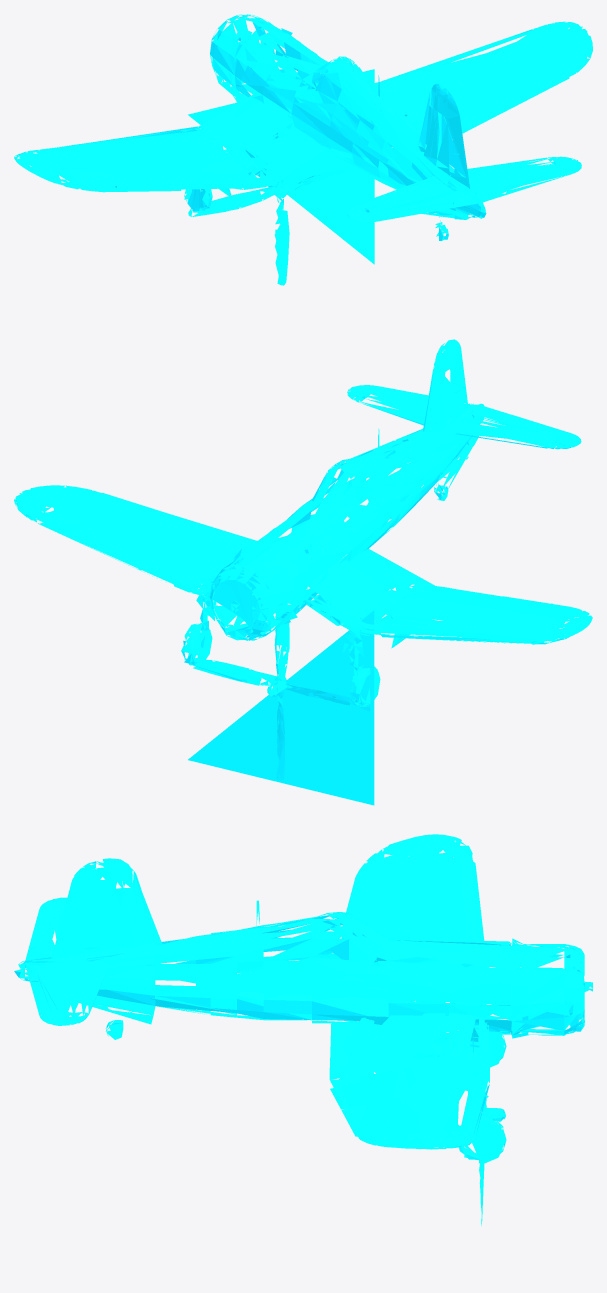
The model's file is PAAF110.glb.
3 renders of one model, top to bottom at view 1: azimuth 30°, elevation 25°; view 2: azimuth 150°, elevation 25°; view 3: azimuth 270°, elevation 25°, orthographic. The views are drawn at different scales.
Parts seen in each view (by area): view 1: misc; view 2: misc; view 3: misc.
Boxes of the visible parts, x1=… form: misc: x1=14, y1=14, x2=592, y2=285; misc: x1=14, y1=339, x2=592, y2=805; misc: x1=14, y1=834, x2=592, y2=1225.
Bounding box in the file's own units: 0.8226 × 0.4493 × 0.6416.
